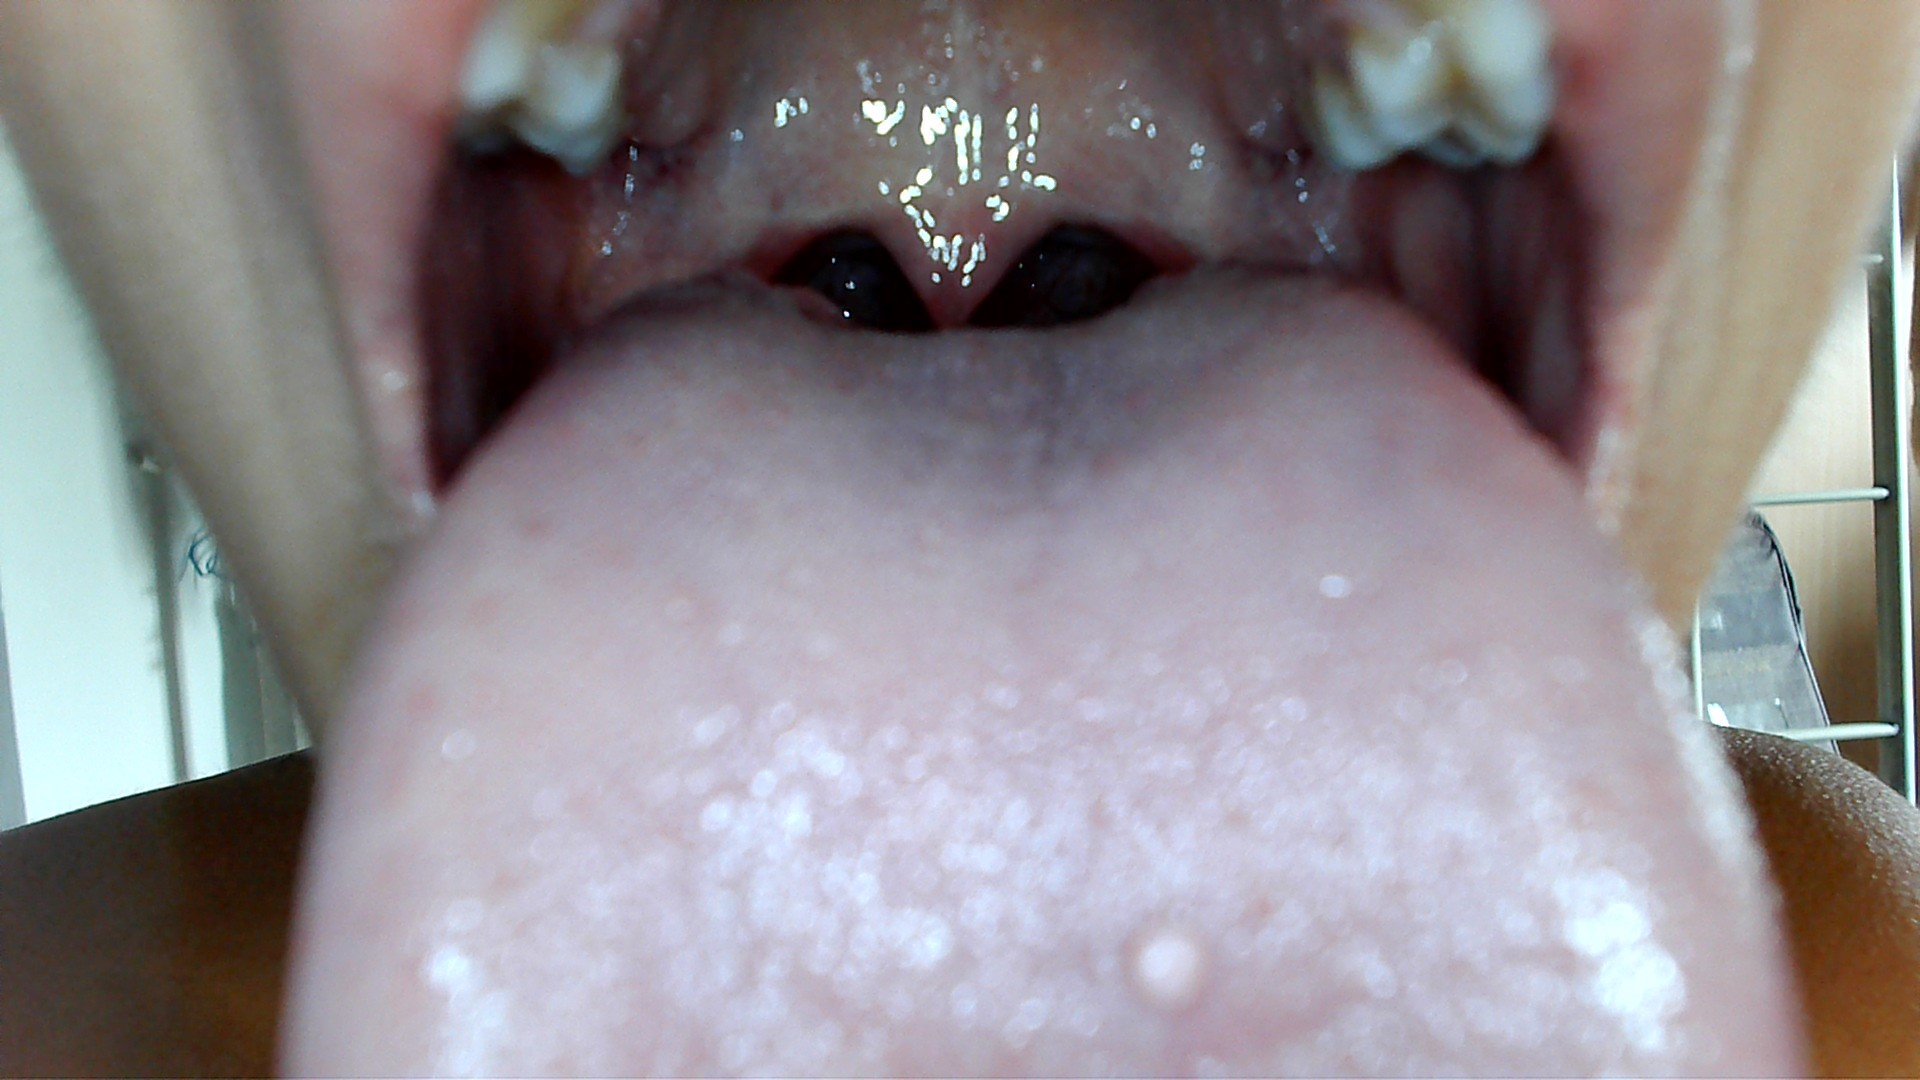throat: (1126, 132, 1286, 264), (650, 164, 806, 272)
